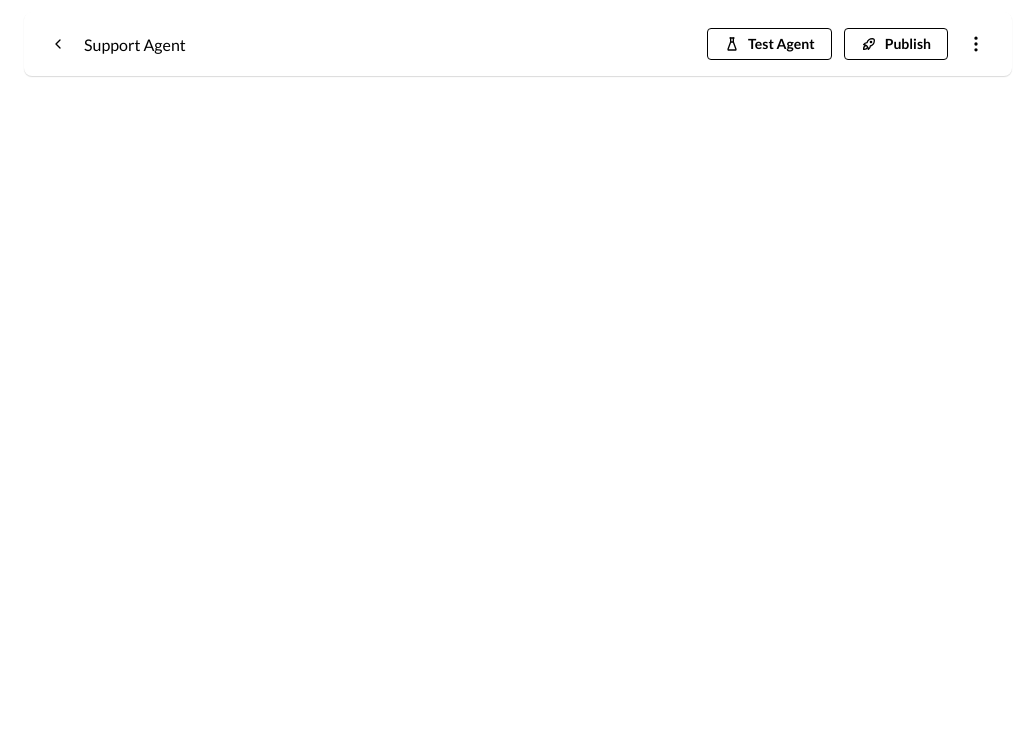
Test case: Agent edit page › opens publish history from the overflow menu and closes it again
This screenshot has width=1024, height=730.
Expected: the dialog "Publish History" is not shown
Click the button named "More agent actions" at {"x": 976, "y": 44}, box [960, 28, 992, 60]
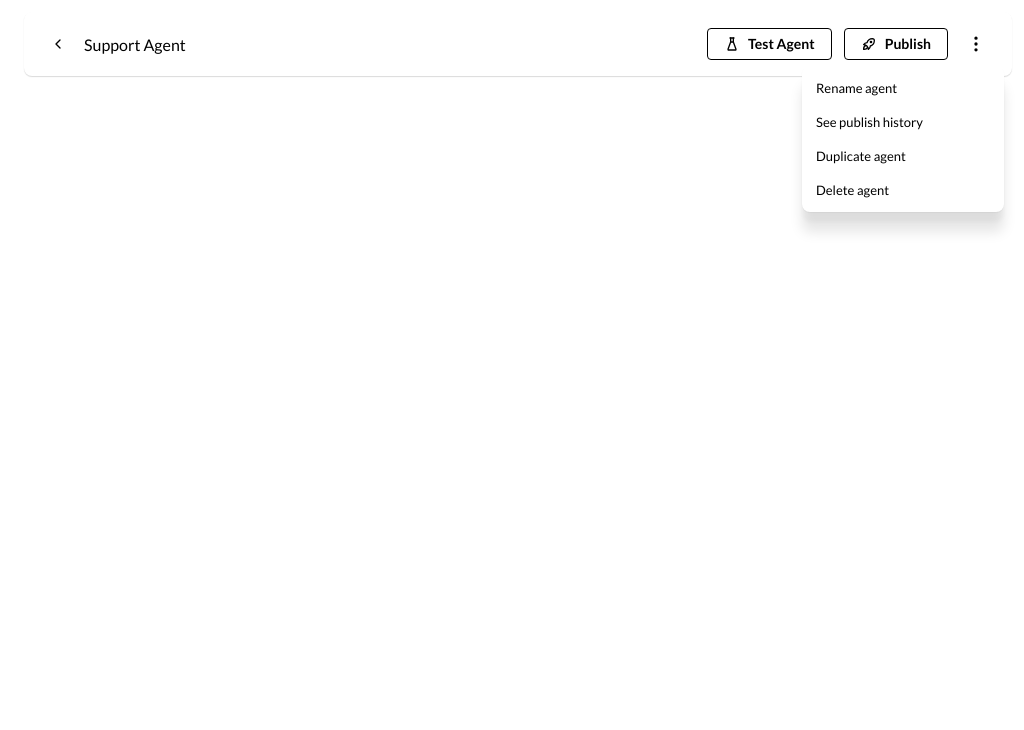
Click the menu item "See publish history" at {"x": 903, "y": 122}, box [808, 106, 998, 138]
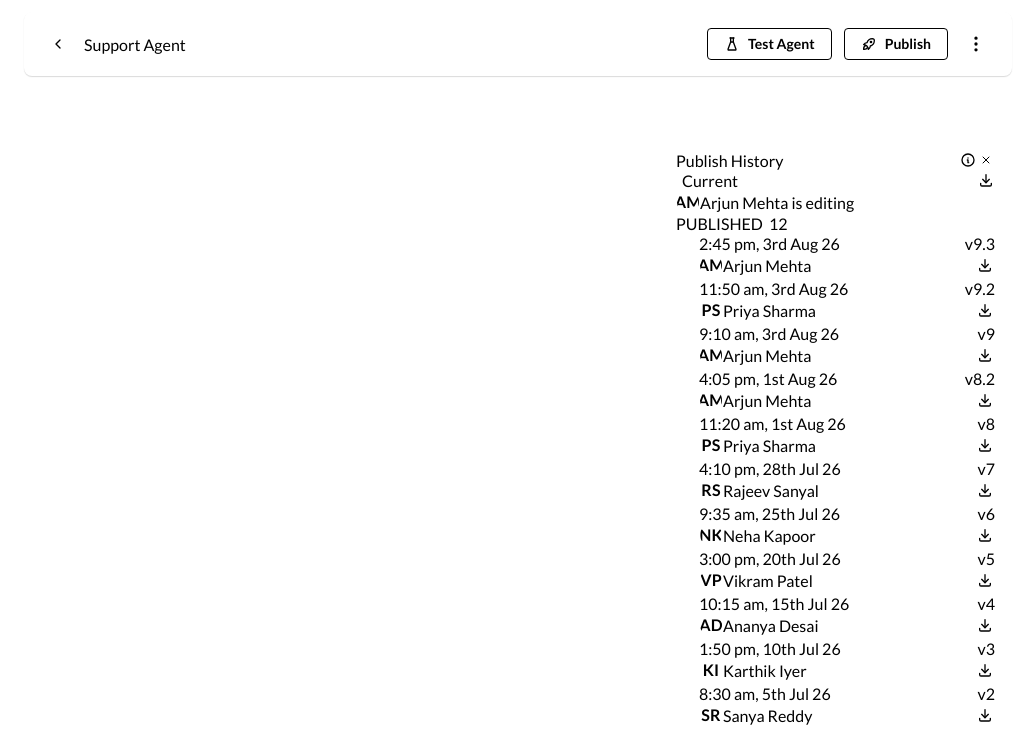
Expected: the text "Arjun Mehta is editing" is shown, [700, 192, 854, 212]
Expected: the text "Current" is shown, [676, 170, 738, 190]
Expected: the button named "Download the current snapshot" is shown, [976, 170, 996, 190]
Click the button named "Close publish history" at {"x": 986, "y": 160}, box [976, 150, 996, 170]
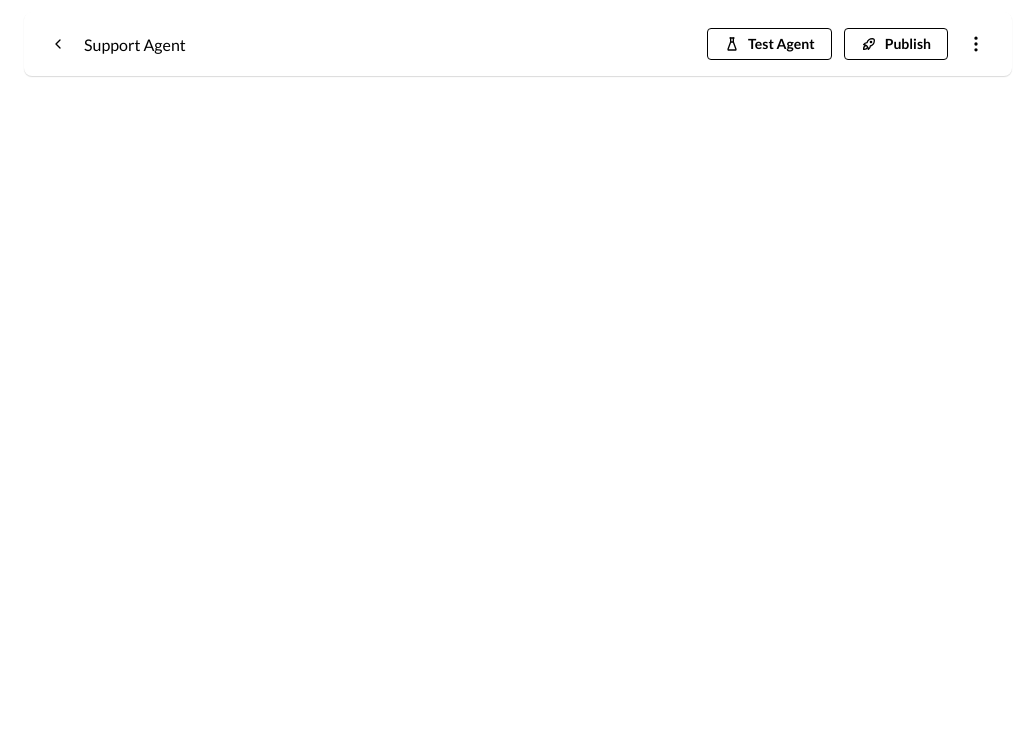
Expected: the heading "Publish History" is gone
